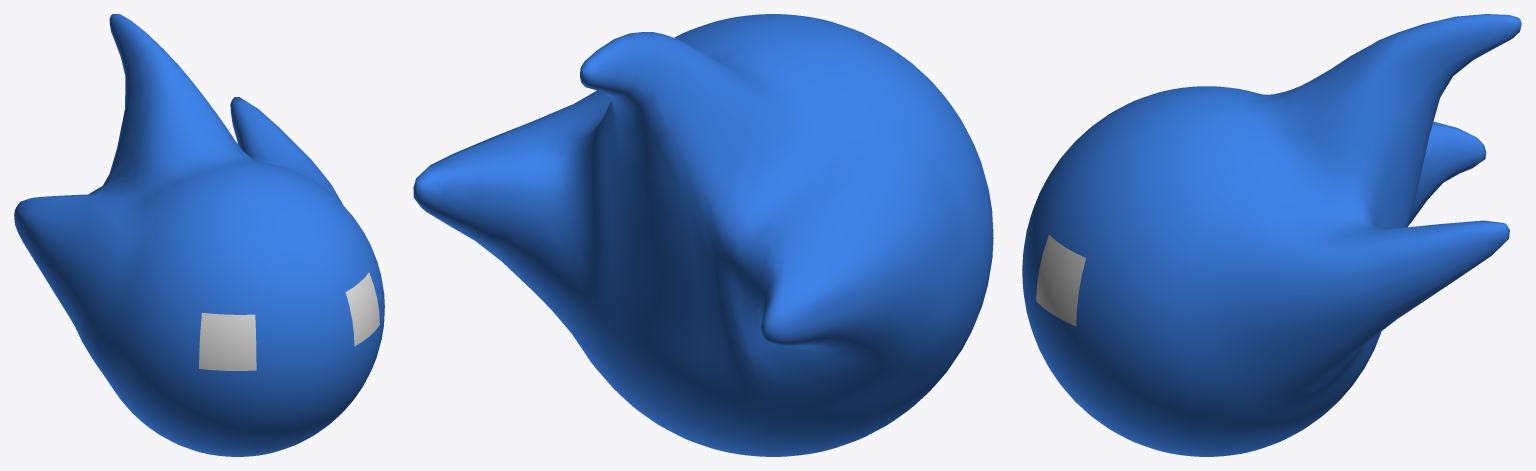
Rendered from Charakter1_new.fbx.
3 renders of one model, left to right at view 1: azimuth 30°, elevation 25°; view 2: azimuth 150°, elevation 25°; view 3: azimuth 270°, elevation 25°, orthographic. The views are drawn at different scales.
Visible parts, largest first — view 1: Sphere.001; view 2: Sphere.001; view 3: Sphere.001.
Boxes of the visible parts, x1,y1,x2,y2 form: Sphere.001: [14, 14, 384, 456]; Sphere.001: [413, 14, 993, 456]; Sphere.001: [1022, 14, 1521, 456].
Size of the model in its own units: 211 by 252 by 267.
